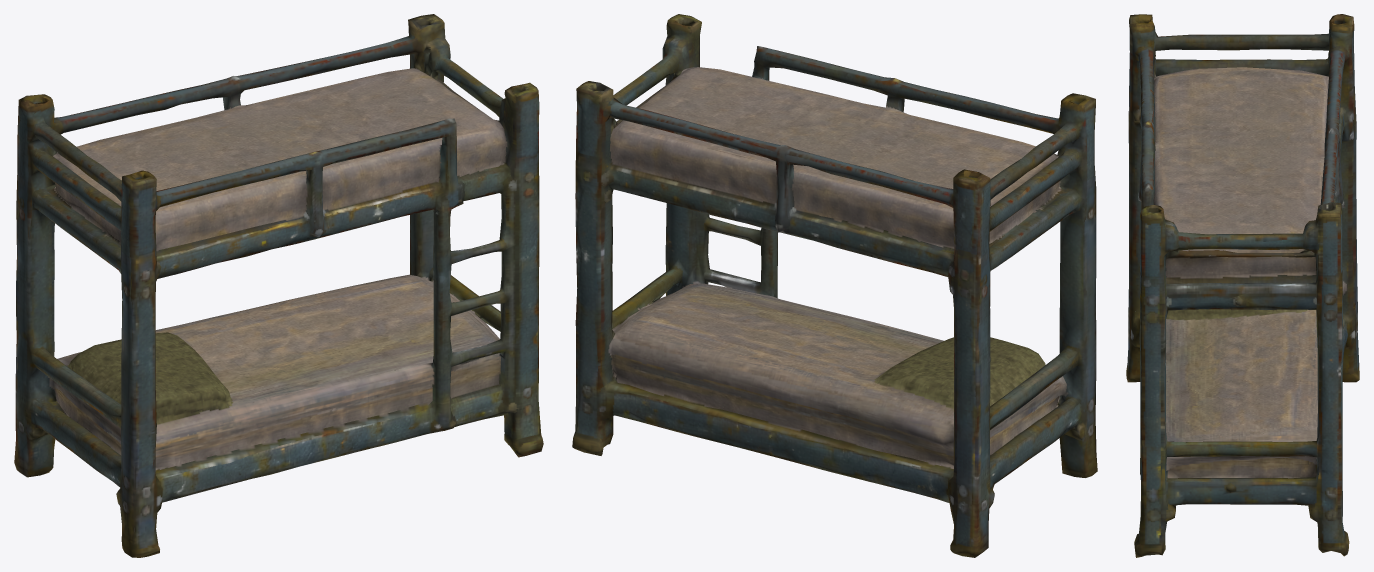
Rendered from raw.glb.
The picture shows the model from 3 angles, left to right: view 1: azimuth 30°, elevation 25°; view 2: azimuth 150°, elevation 25°; view 3: azimuth 270°, elevation 25°; orthographic projection. The views are drawn at different scales.
Size of the model in its own units: 0.939 by 0.8102 by 0.4782.
Materials: 1 (1 with a texture image).
